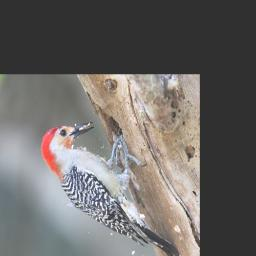Woodpecker: (42, 122, 181, 256)
